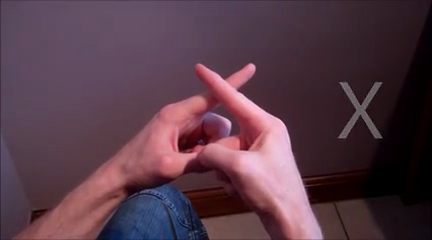X: (116, 54, 310, 206)
